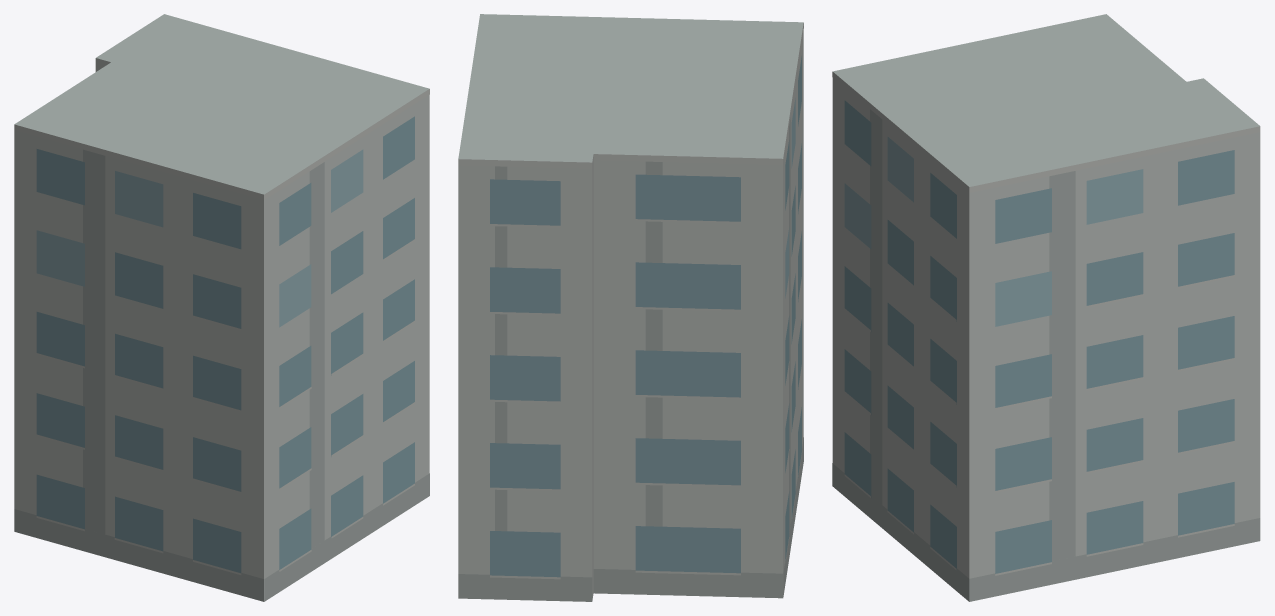
File: survey-upis-32832266.glb
The picture shows the model from 3 angles, left to right: view 1: azimuth 30°, elevation 25°; view 2: azimuth 150°, elevation 25°; view 3: azimuth 270°, elevation 25°; orthographic projection. The views are drawn at different scales.
Parts seen in each view (by area): view 1: survey-upis-32832266.tmp; view 2: survey-upis-32832266.tmp; view 3: survey-upis-32832266.tmp.
Boxes of the visible parts, x1,y1,x2,y2 form: survey-upis-32832266.tmp: [14, 14, 429, 601]; survey-upis-32832266.tmp: [458, 14, 803, 601]; survey-upis-32832266.tmp: [832, 14, 1260, 601].
Bounding box in the file's own units: 15.22 × 17 × 15.9.
